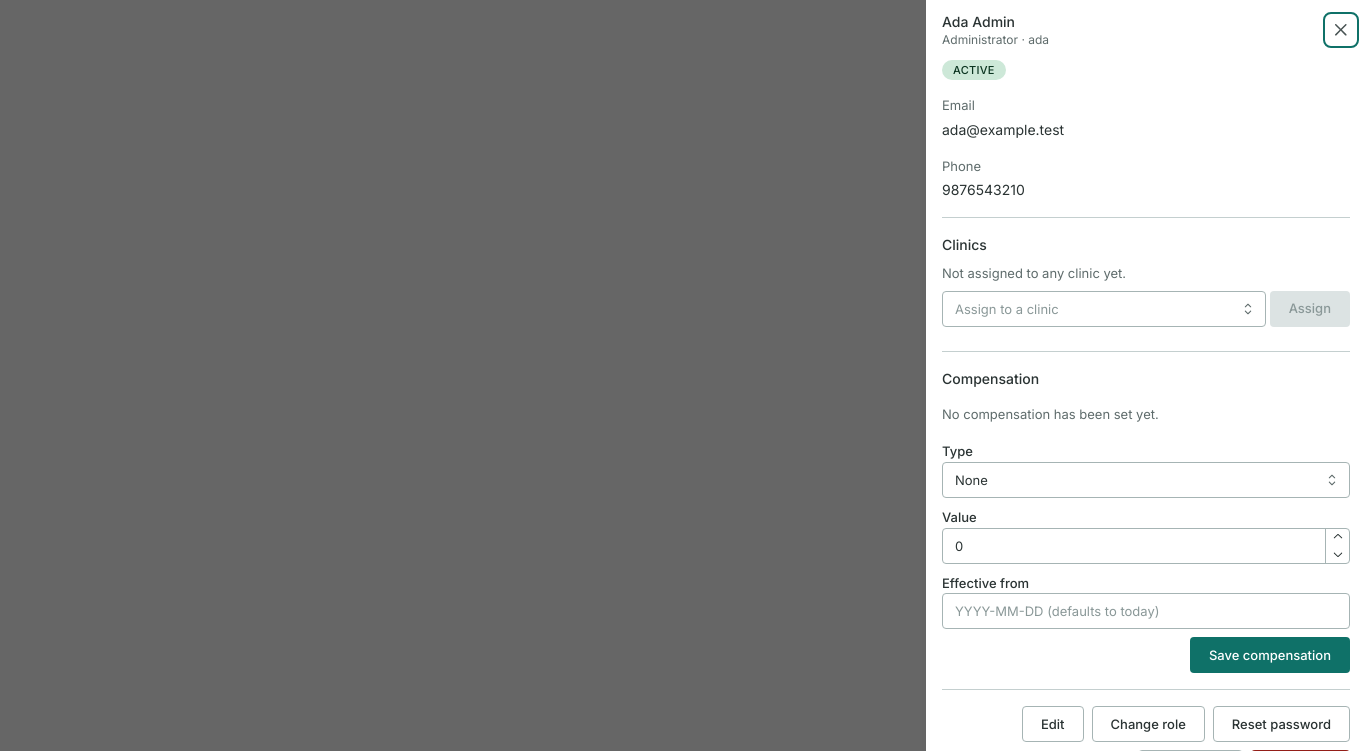
Test: UserDetailDrawer › opens the reset-password confirm and reveals the new password once resolved
This screenshot has width=1366, height=751.
Click the button "Reset password" at (1281, 724), box [1213,706,1350,742]
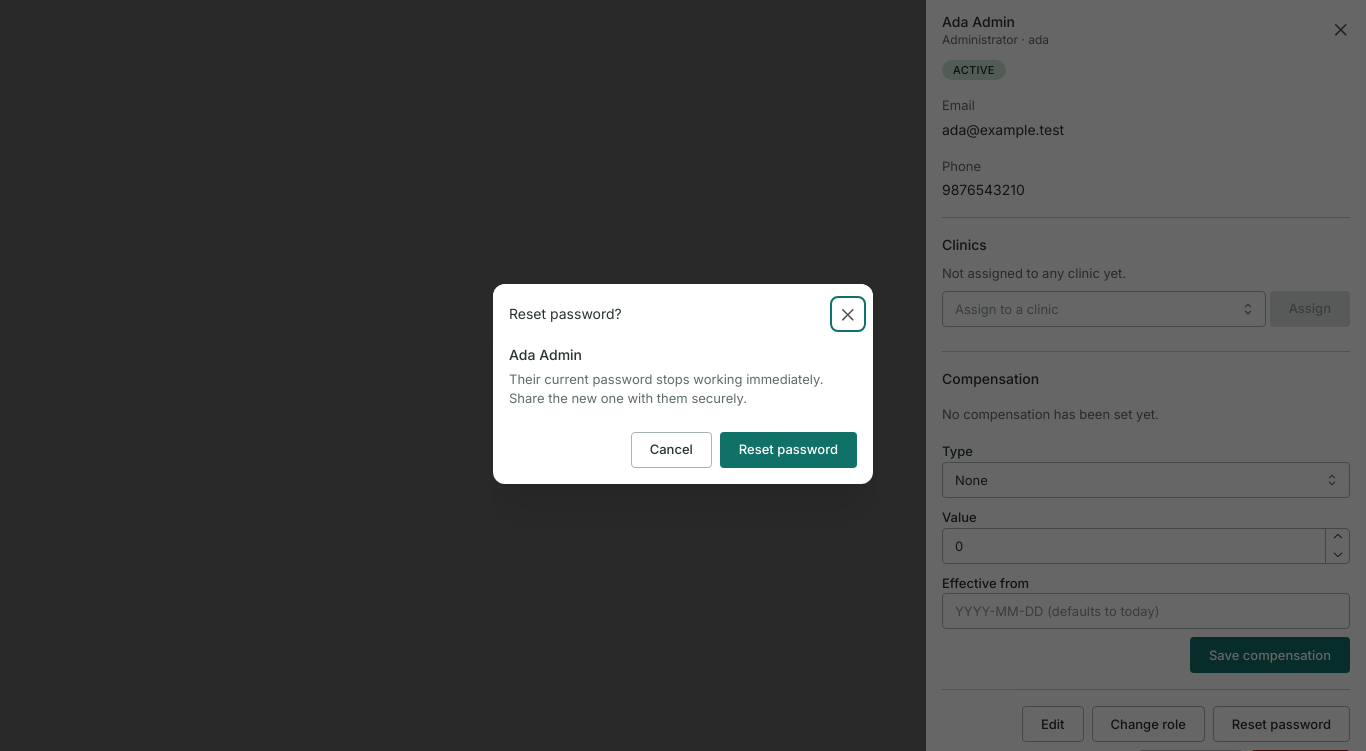
Click the button "Reset password" at (788, 450), box [720,432,857,468]
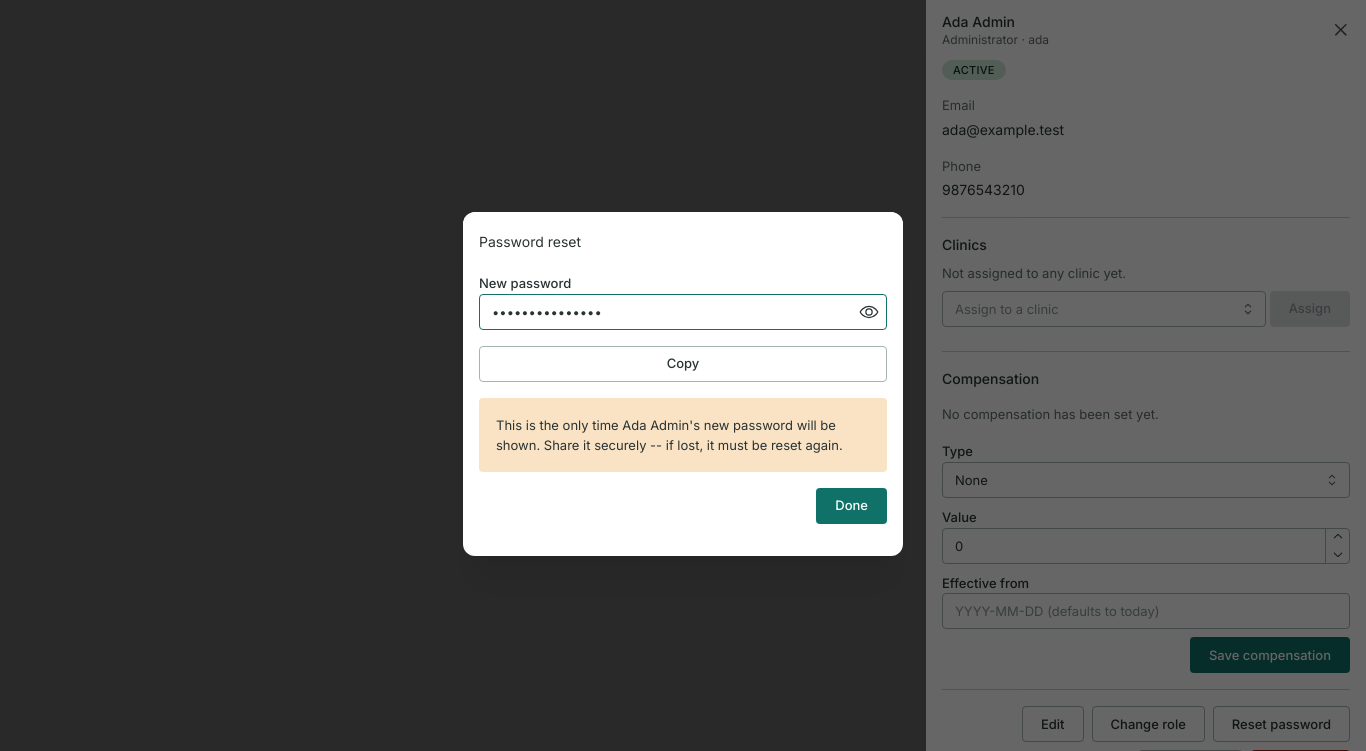
Result: the heading "Password reset" is shown at [479,235,581,249]
Result: the password field labelled "New password" holds "Zx8@qWe1rTy2ui3" at [480,295,886,329]
